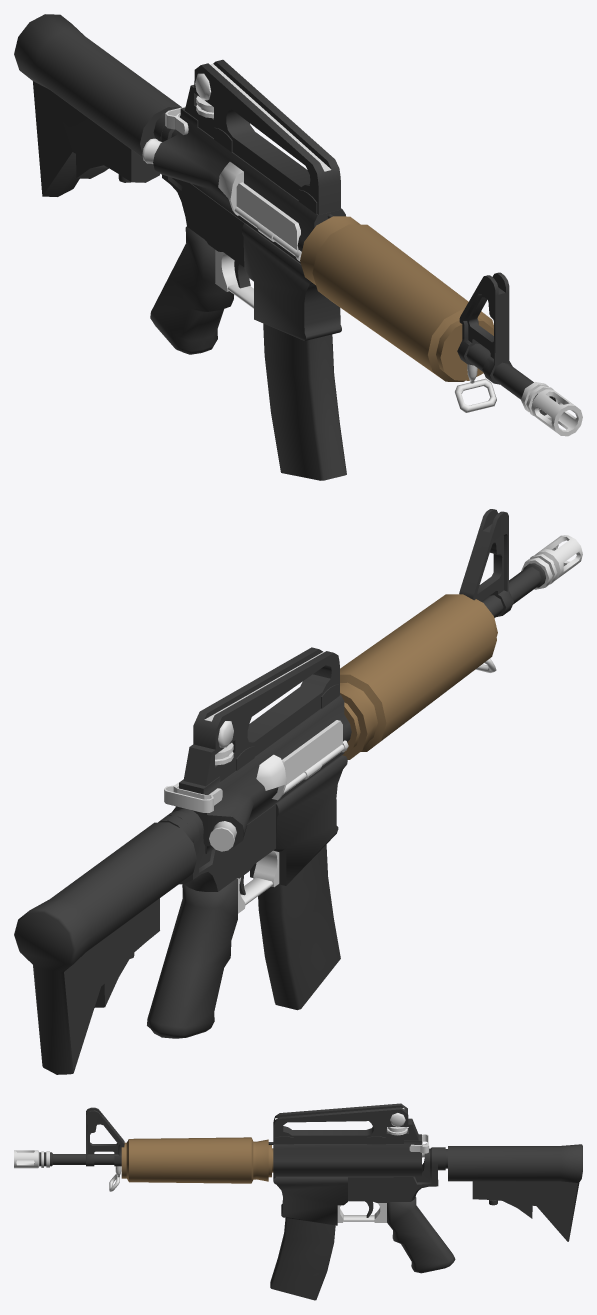
The model's file is Weapon_12.fbx.
3 renders of one model, top to bottom at view 1: azimuth 30°, elevation 25°; view 2: azimuth 150°, elevation 25°; view 3: azimuth 270°, elevation 25°, orthographic. The views are drawn at different scales.
Visible parts, largest first — view 1: Weapon_12; view 2: Weapon_12; view 3: Weapon_12.
Part boxes in pixels (box(x1,y1,x2,y2)): Weapon_12: box(14, 14, 582, 480); Weapon_12: box(14, 509, 582, 1074); Weapon_12: box(14, 1103, 582, 1300).
Size of the model in its own units: 15 by 60.14 by 163.
